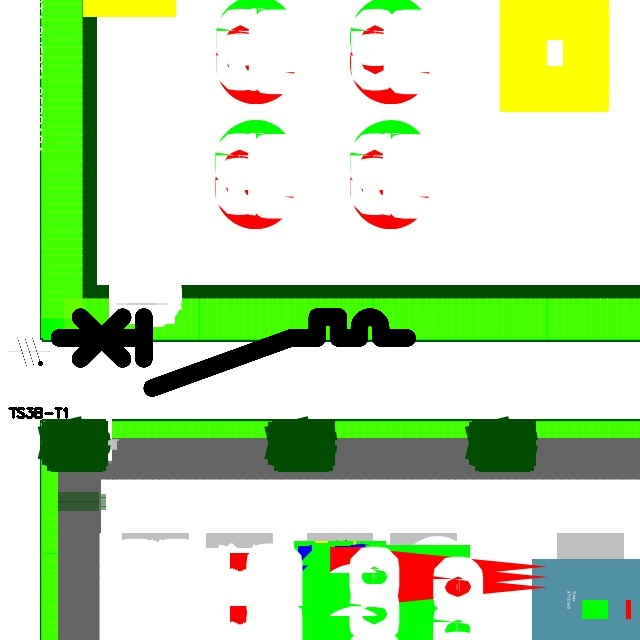interruptor_termomagnetico: (50, 308, 416, 397)
